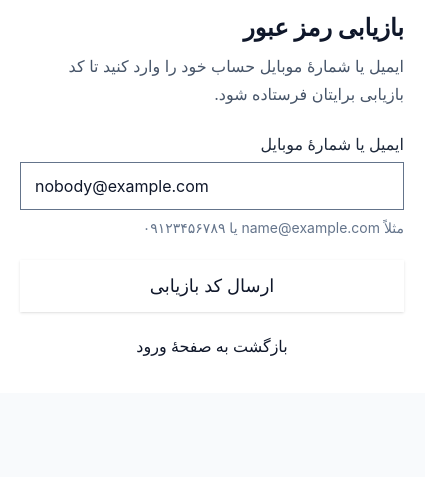
ForgotPasswordFlow › an unknown identifier: the API says so (it does on purpose), with registration offered
The width and height of the screenshot is (425, 477).
Later steps or results of the test are not shown.
Click the button "ارسال کد بازیابی" at coordinates (212, 286), box top-left (20, 260), bottom-right (404, 312)
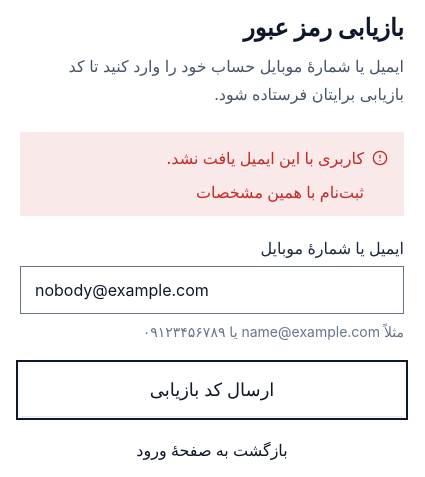
expect the message shows "کاربری با این ایمیل یافت نشد.": met, box top-left (166, 148), bottom-right (364, 168)
